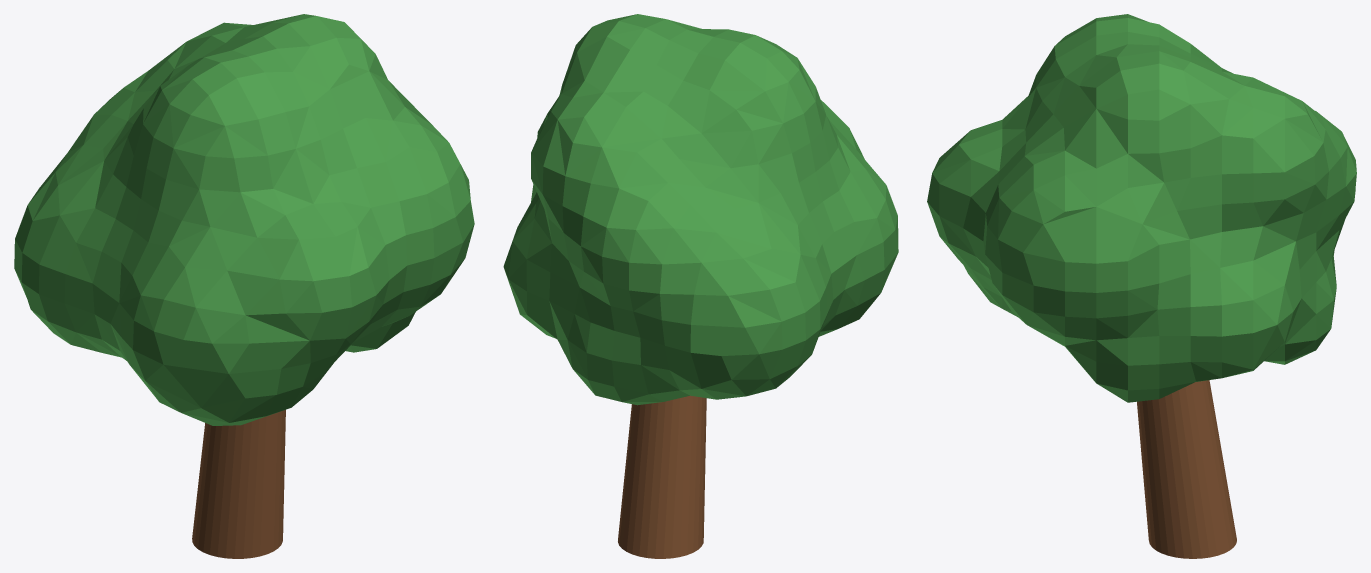
Rendered from ufo_tree6.fbx.
3 renders of one model, left to right at view 1: azimuth 30°, elevation 25°; view 2: azimuth 150°, elevation 25°; view 3: azimuth 270°, elevation 25°, orthographic. The views are drawn at different scales.
Parts seen in each view (by area): view 1: Mball.016, Cylinder.005; view 2: Mball.016, Cylinder.005; view 3: Mball.016, Cylinder.005.
Boxes of the visible parts, x1,y1,x2,y2 form: Mball.016: [14, 14, 474, 425]; Cylinder.005: [192, 410, 285, 558]; Mball.016: [503, 14, 898, 405]; Cylinder.005: [618, 395, 706, 558]; Mball.016: [927, 14, 1356, 402]; Cylinder.005: [1137, 380, 1236, 558].
Size of the model in its own units: 279 by 391 by 301.
